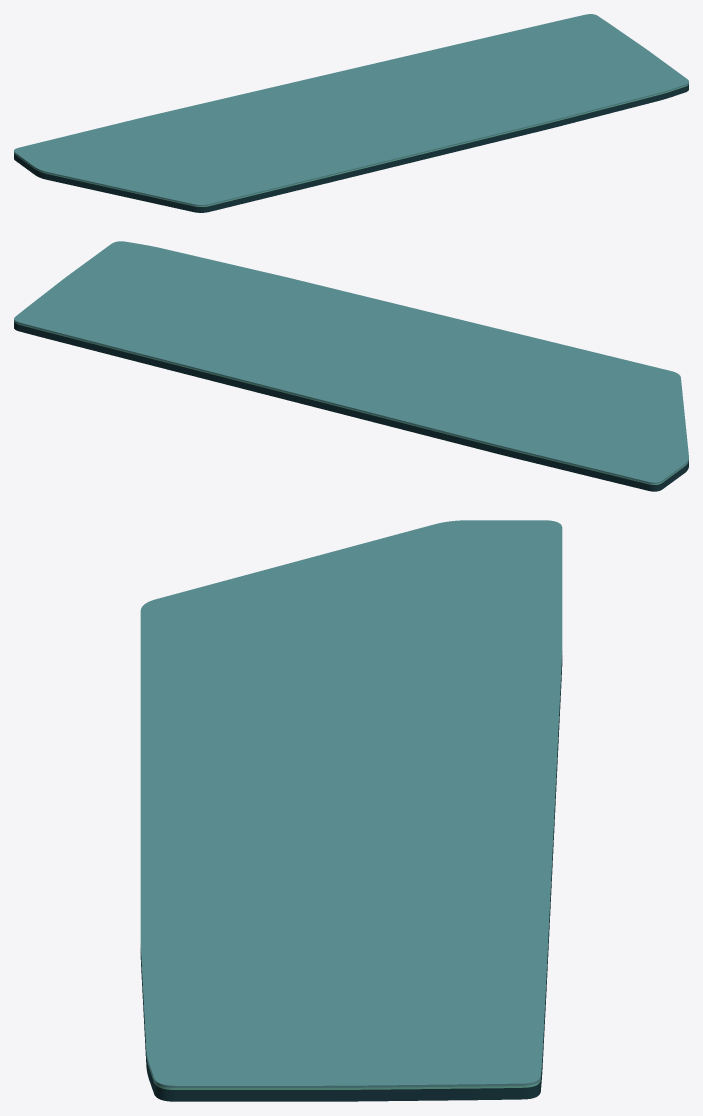
File: boardwalks_base.glb
3 renders of one model, top to bottom at view 1: azimuth 30°, elevation 25°; view 2: azimuth 150°, elevation 25°; view 3: azimuth 270°, elevation 25°, orthographic. The views are drawn at different scales.
Parts seen in each view (by area): view 1: BASE_infield_surface_NEW_V2, BASE_sculpted_silhouette_NEW_V2, BASE_thin_mint_rim_NEW_V2; view 2: BASE_infield_surface_NEW_V2, BASE_sculpted_silhouette_NEW_V2, BASE_thin_mint_rim_NEW_V2; view 3: BASE_infield_surface_NEW_V2, BASE_sculpted_silhouette_NEW_V2, BASE_thin_mint_rim_NEW_V2.
Part boxes in pixels (x1=…): BASE_infield_surface_NEW_V2: x1=14, y1=14, x2=688, y2=205; BASE_sculpted_silhouette_NEW_V2: x1=14, y1=84, x2=688, y2=212; BASE_thin_mint_rim_NEW_V2: x1=14, y1=83, x2=688, y2=206; BASE_infield_surface_NEW_V2: x1=14, y1=241, x2=688, y2=483; BASE_sculpted_silhouette_NEW_V2: x1=14, y1=322, x2=688, y2=491; BASE_thin_mint_rim_NEW_V2: x1=14, y1=321, x2=688, y2=484; BASE_infield_surface_NEW_V2: x1=140, y1=520, x2=562, y2=1087; BASE_sculpted_silhouette_NEW_V2: x1=140, y1=655, x2=562, y2=1101; BASE_thin_mint_rim_NEW_V2: x1=140, y1=653, x2=562, y2=1089.
Bounding box in the file's own units: 42.74 × 0.56 × 13.47.
